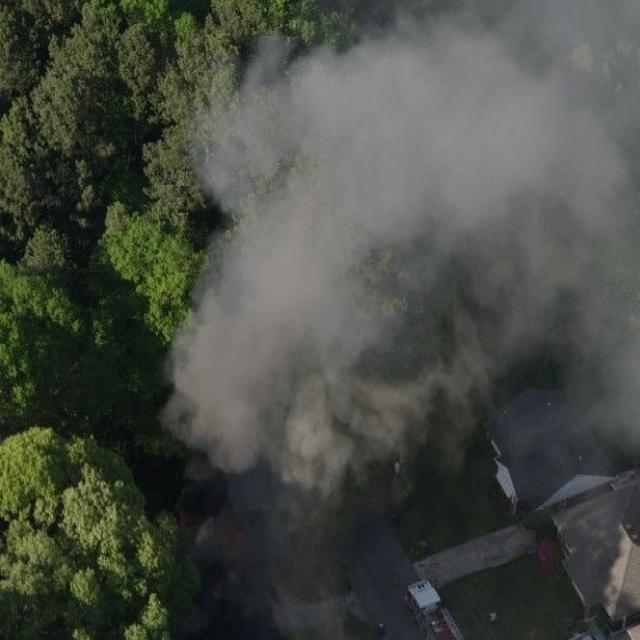Smoke: (252, 98, 512, 400)
